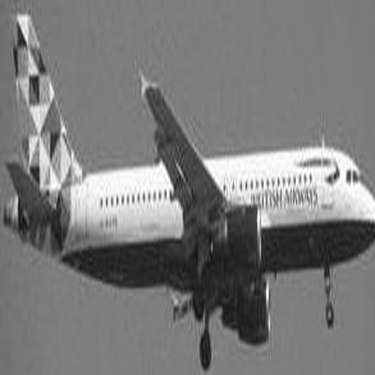airplane: (5, 4, 371, 369)
